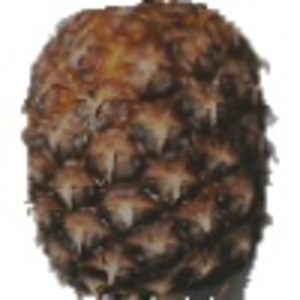abacaxi: (21, 1, 272, 295)
